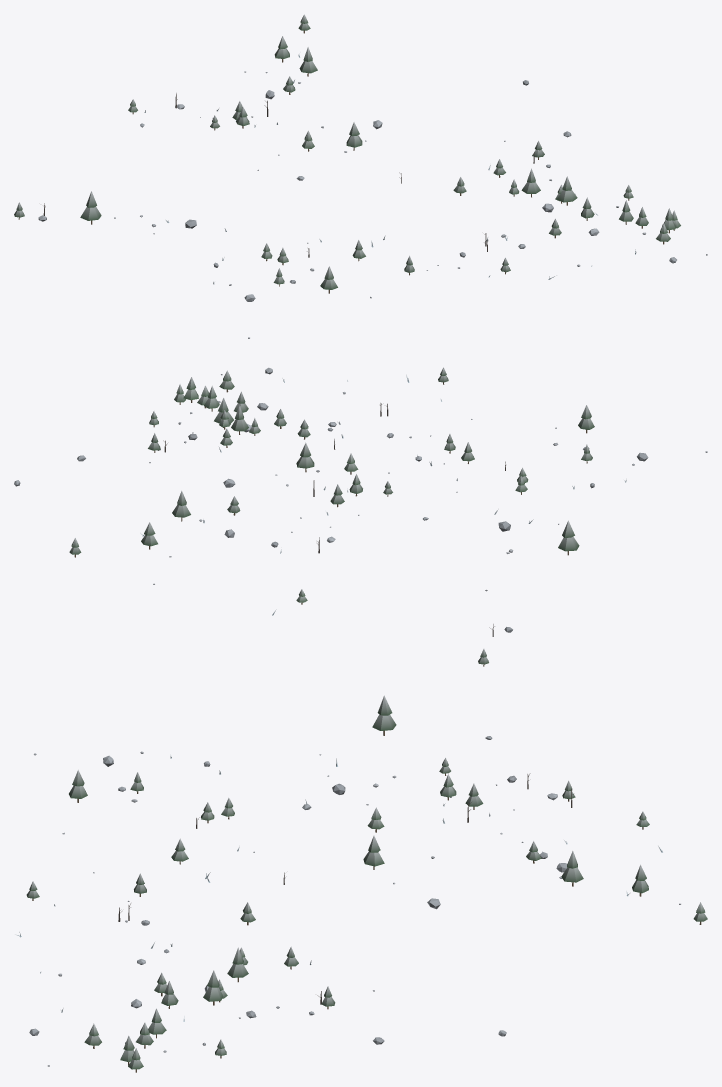
The model's file is frost_land_scatter_c21_09_lod1.glb.
3 renders of one model, top to bottom at view 1: azimuth 30°, elevation 25°; view 2: azimuth 150°, elevation 25°; view 3: azimuth 270°, elevation 25°, orthographic. The views are drawn at different scales.
Parts seen in each view (by area): view 1: frost_land_scatter_c21_09_lod1; view 2: frost_land_scatter_c21_09_lod1; view 3: frost_land_scatter_c21_09_lod1.
Boxes of the visible parts, left/top/right/bottom form: frost_land_scatter_c21_09_lod1: left=14, top=14, right=707, bottom=338; frost_land_scatter_c21_09_lod1: left=14, top=367, right=707, bottom=666; frost_land_scatter_c21_09_lod1: left=15, top=695, right=707, bottom=1072.
Bounding box in the file's own units: 256 × 53.17 × 259.
